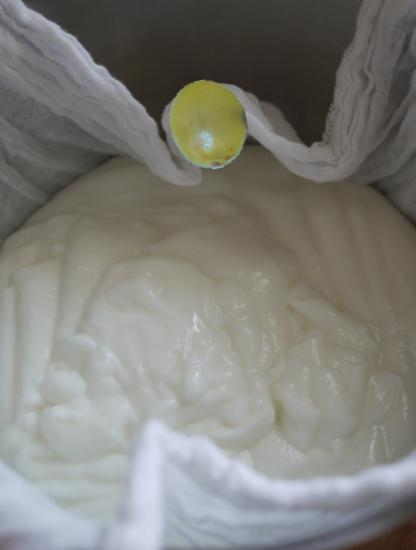Grape: (164, 79, 255, 170)
